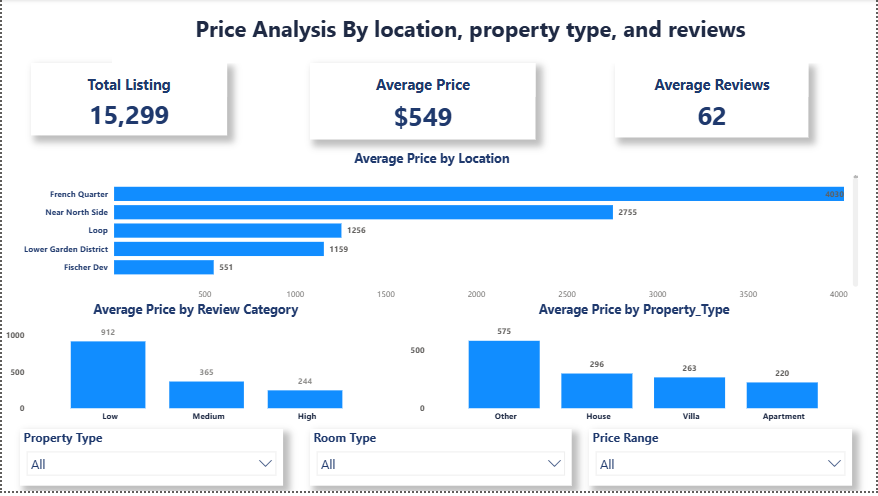

What the dashboard file says about the page in this screenshot:
{"tool":"powerbi","page":{"name":"Price analysis by location","canvas":[1280,720],"ordinal":2},"visuals":[{"type":"clusteredBarChart","title":"Average Price by Location","fields":{"Category":["M4_pro.neighbourhood"],"Y":["M4_pro.Average Price"]},"box":[0,219.6,1258.2,230.5],"z":0},{"type":"columnChart","fields":{"Category":["M4_pro.Property_Type"],"Y":["M4_pro.Average Price"]},"box":[593.3,440.7,664.9,188.4],"z":1000},{"type":"card","title":"Total Listing","fields":{"Values":["M4_pro.Listings Count"]},"box":[42,93.4,286.5,105.9],"z":8001},{"type":"card","title":"Average Reviews","fields":{"Values":["M4_pro.Average Reviews"]},"box":[896.9,93.4,283.4,109],"z":8002},{"type":"textbox","box":[160.4,15.6,1040.2,77.9],"z":8005},{"type":"columnChart","fields":{"Y":["M4_pro.Average Price"],"Category":["M4_pro.Review Category"]},"box":[0,440.7,566.8,188.4],"z":8006},{"type":"slicer","title":"Property Type","fields":{"Values":["M4_pro.Property_Type"]},"box":[26.5,629.1,384.6,82.5],"z":8007},{"type":"slicer","title":"Room Type","fields":{"Values":["M4_pro.room_type"]},"box":[450,629.1,383.1,82.5],"z":8008},{"type":"slicer","title":"Price Range","fields":{"Values":["M4_pro.Price Category"]},"box":[859.6,629.1,384.6,82.5],"z":8009},{"type":"card","title":"Average Price","fields":{"Values":["M4_pro.Average Price"]},"box":[450,93.4,330.1,112.1],"z":8010}]}

Visuals, with their boxes in screenshot pixels (x1, y1, x2, y2), scaled from the page's 1280x720 canvas onto the 878x496 screenshot:
"Average Price by Location" clusteredBarChart: (0, 151, 863, 310)
columnChart - M4_pro.Property_Type x M4_pro.Average Price: (407, 304, 863, 433)
"Total Listing" card: (29, 64, 225, 137)
"Average Reviews" card: (615, 64, 810, 139)
textbox: (110, 11, 824, 64)
columnChart - M4_pro.Average Price x M4_pro.Review Category: (0, 304, 389, 433)
"Property Type" slicer: (18, 433, 282, 490)
"Room Type" slicer: (309, 433, 571, 490)
"Price Range" slicer: (590, 433, 853, 490)
"Average Price" card: (309, 64, 535, 142)
